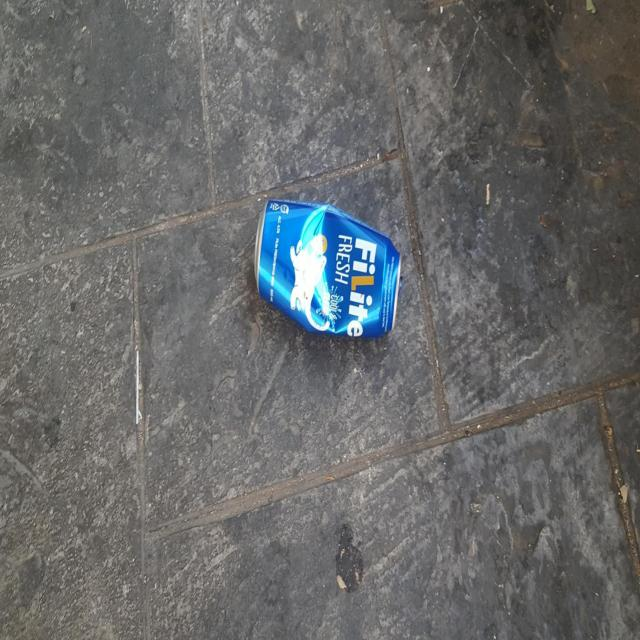can: (254, 198, 401, 338)
